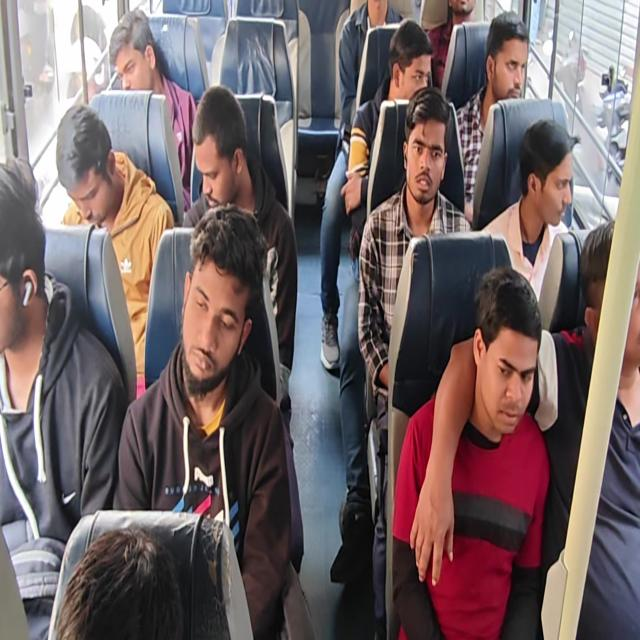person: (1, 1, 638, 638), (423, 219, 640, 637), (112, 204, 315, 638), (323, 6, 435, 582), (357, 85, 473, 638), (0, 156, 128, 638), (180, 85, 304, 574), (391, 266, 550, 638), (545, 219, 640, 639), (55, 103, 175, 399), (320, 0, 406, 371), (341, 18, 434, 276), (480, 118, 580, 306), (108, 8, 198, 210), (454, 11, 530, 223), (54, 525, 184, 639), (338, 0, 403, 143), (426, 0, 477, 90)
